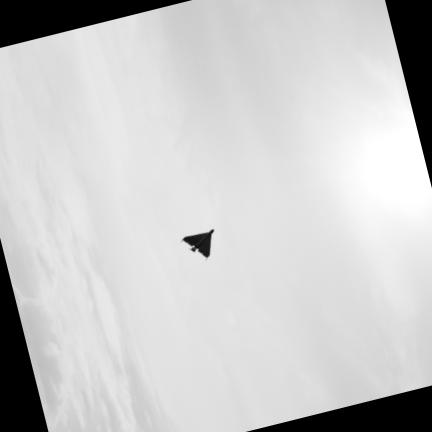Shahed: (182, 229, 212, 258)
